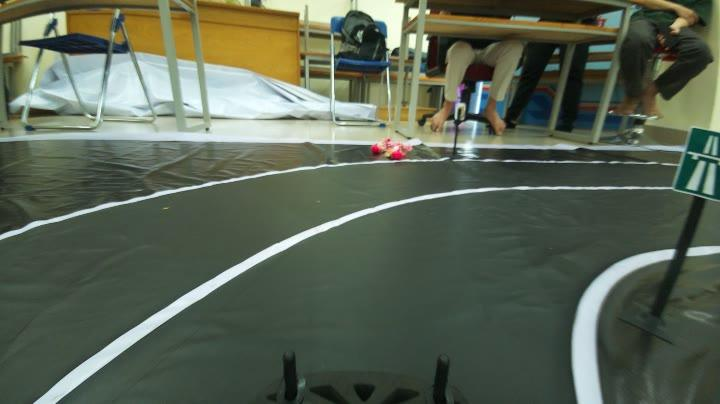highway_entry: (668, 124, 720, 204)
